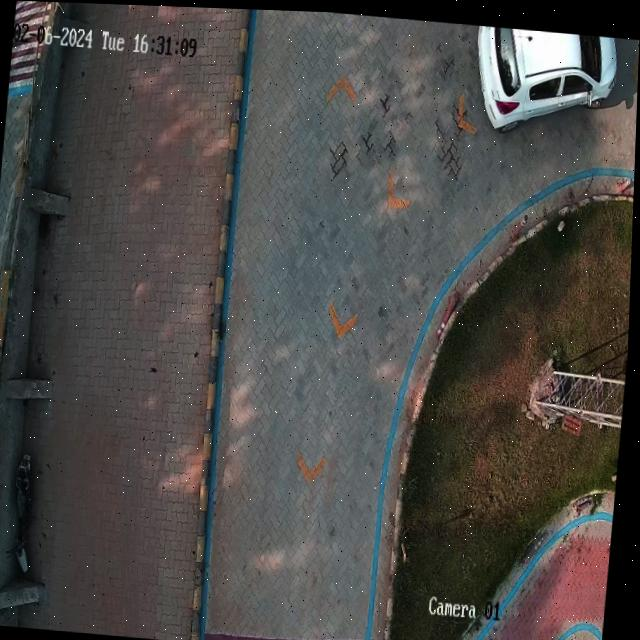car: (476, 22, 617, 126)
